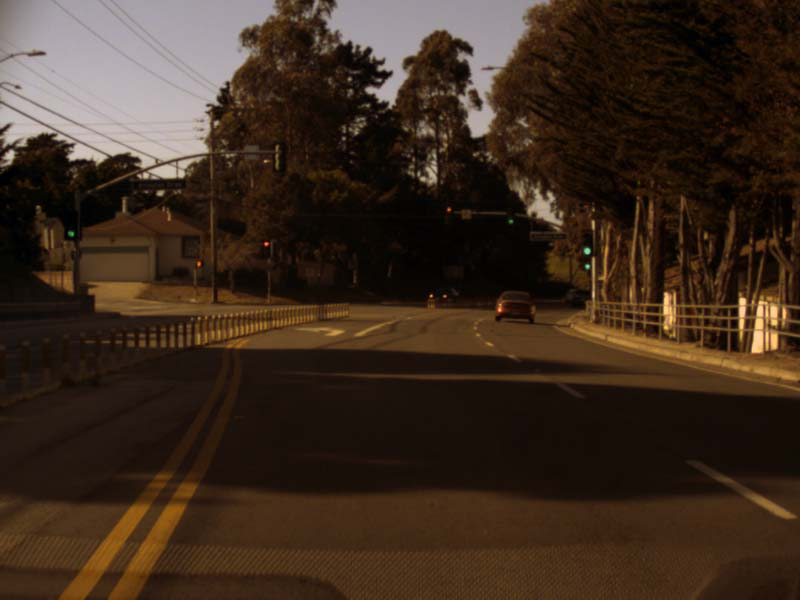Green: (579, 229, 593, 256), (64, 211, 76, 239), (506, 208, 516, 226), (583, 256, 591, 271)
Red: (445, 206, 454, 225), (261, 239, 270, 256)
